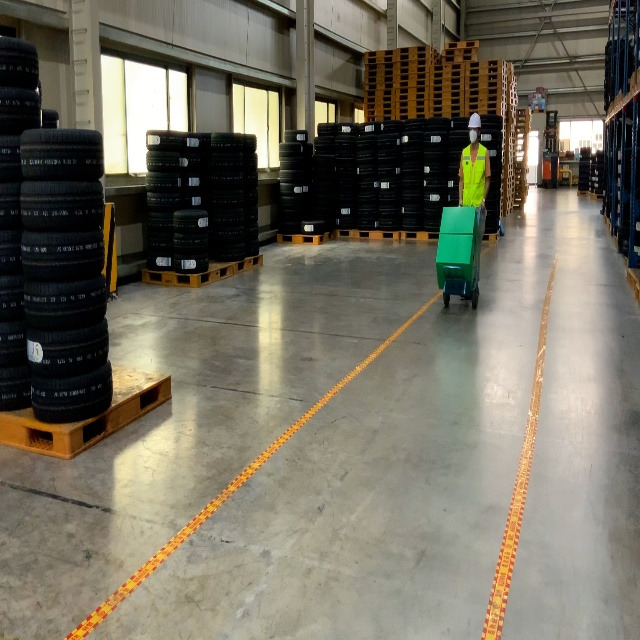Box: (435, 234, 475, 290), (439, 205, 478, 261)
Worker: (458, 112, 491, 258)
